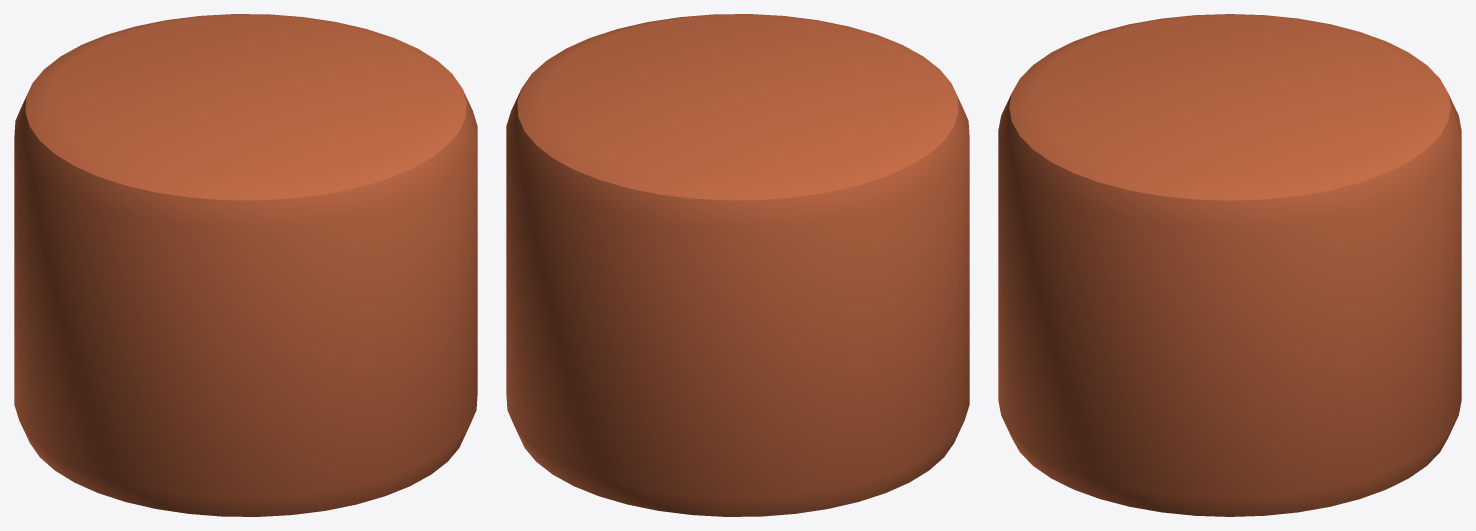
File: electric_planer_lock_off_button.glb
3 views of the same model, side by side, from view 1: azimuth 30°, elevation 25°; view 2: azimuth 150°, elevation 25°; view 3: azimuth 270°, elevation 25° (orthographic).
Visible parts, largest first — view 1: electric_planer_lock_off_button; view 2: electric_planer_lock_off_button; view 3: electric_planer_lock_off_button.
Boxes of the visible parts, box(x1,y1,x2,y2) form: electric_planer_lock_off_button: box(14, 14, 477, 516); electric_planer_lock_off_button: box(506, 14, 969, 516); electric_planer_lock_off_button: box(998, 14, 1461, 516).
Size of the model in its own units: 0.01 by 0.008 by 0.01.
